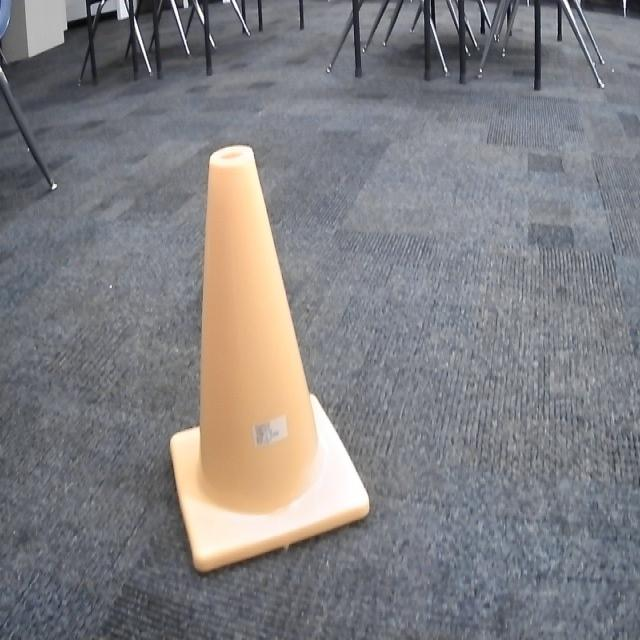cone: (170, 138, 374, 577)
